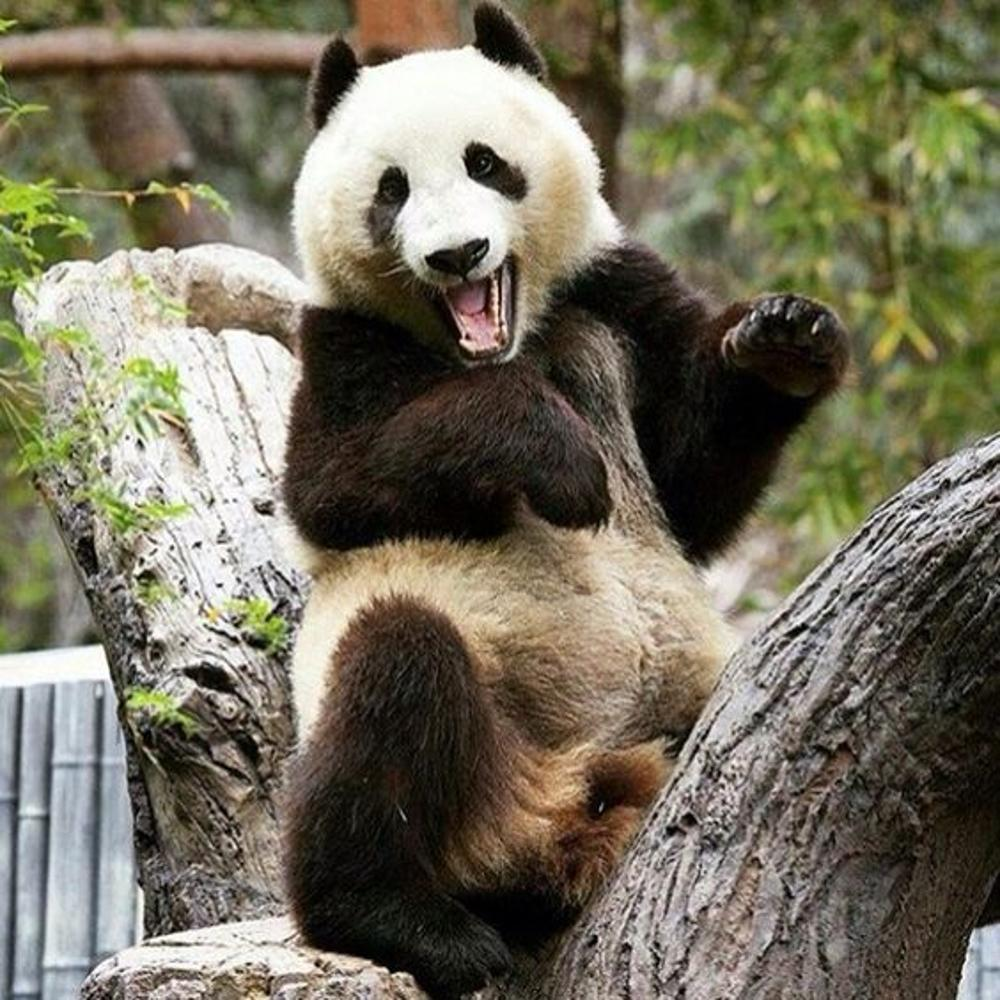panda: (278, 2, 852, 977)
